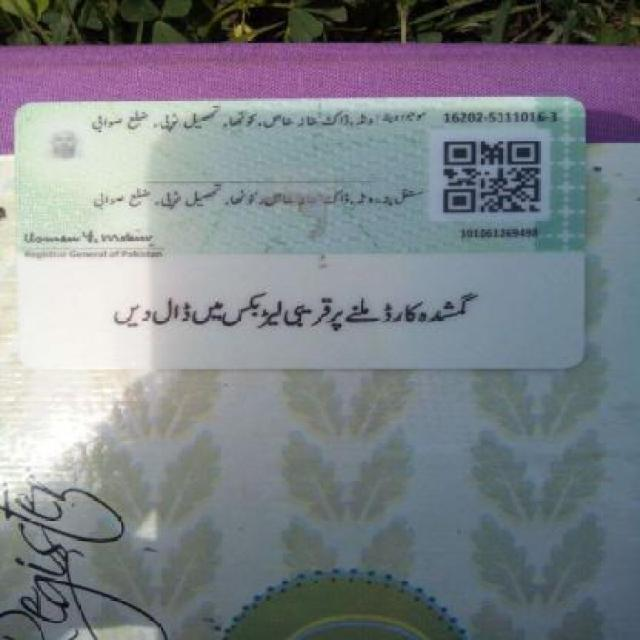Back: (12, 90, 596, 372)
